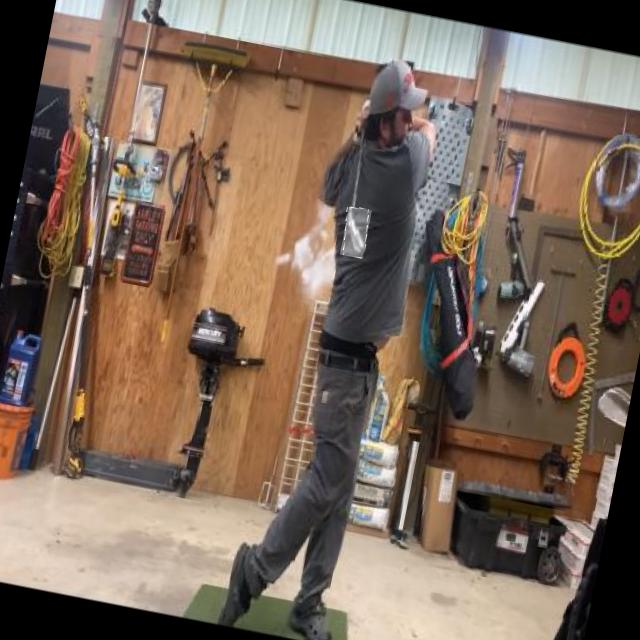club head: (340, 206, 372, 259)
